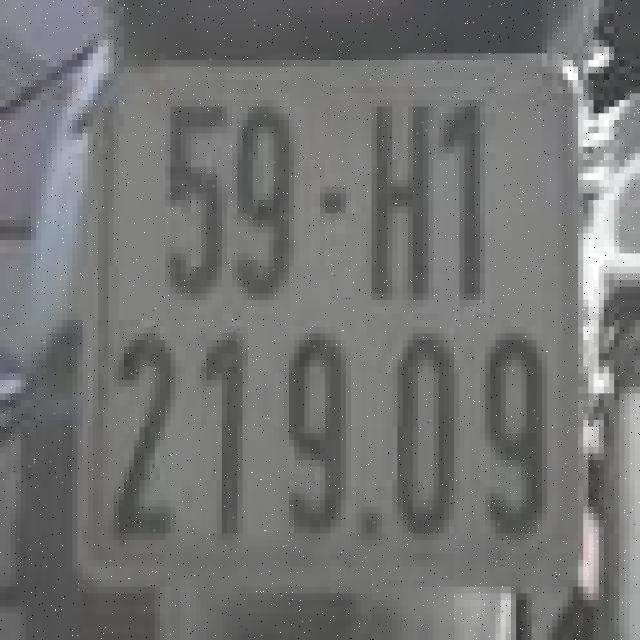0: (387, 327, 459, 540)
1: (441, 97, 493, 310), (204, 320, 250, 547)
2: (108, 330, 186, 543)
5: (162, 96, 225, 296)
9: (480, 330, 547, 543), (284, 327, 351, 533), (232, 100, 300, 300)
H: (364, 93, 436, 307)
